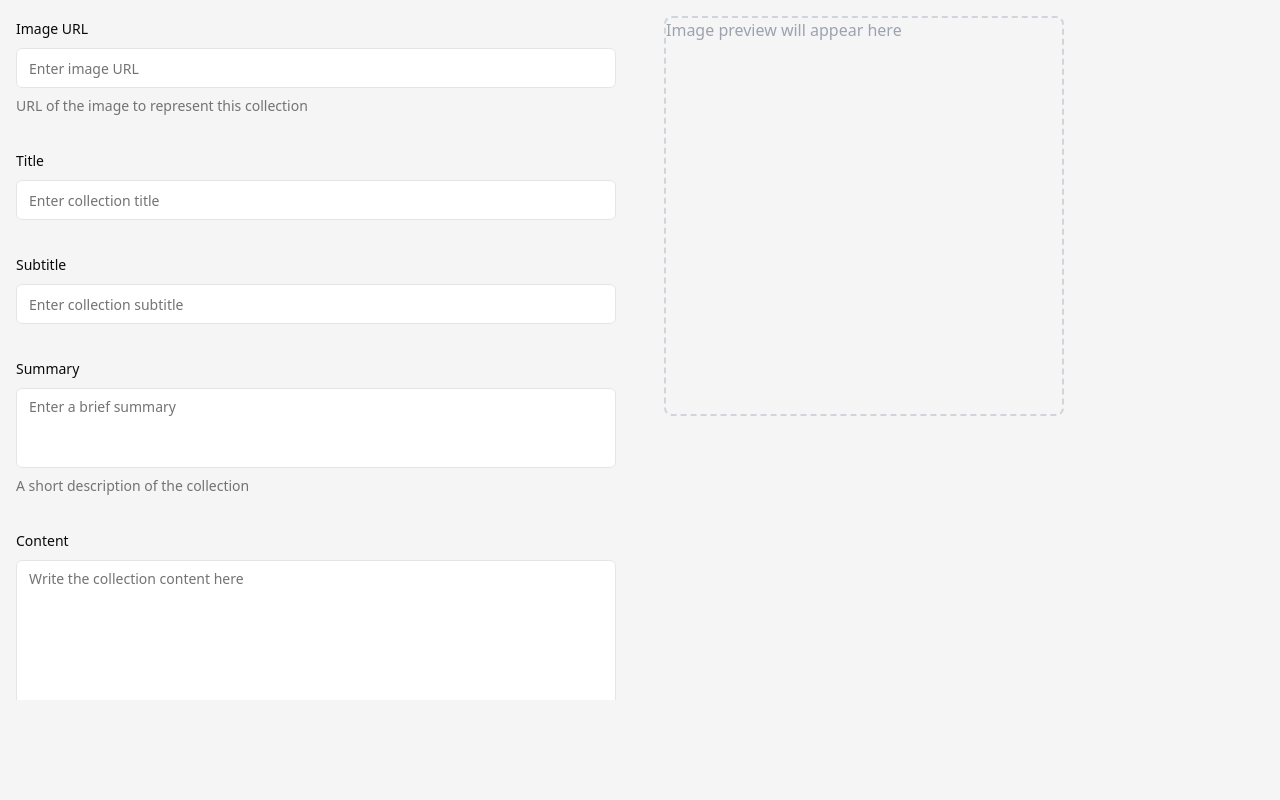
admin collection forms › shows pre-submit collection create feedback for unsupported image hosts without rendering a preview
The image size is (1280, 800).
In the field labelled "Image URL": x=316, y=68 16,48 -> 616,88, type "https://example.com/collection.jpg"
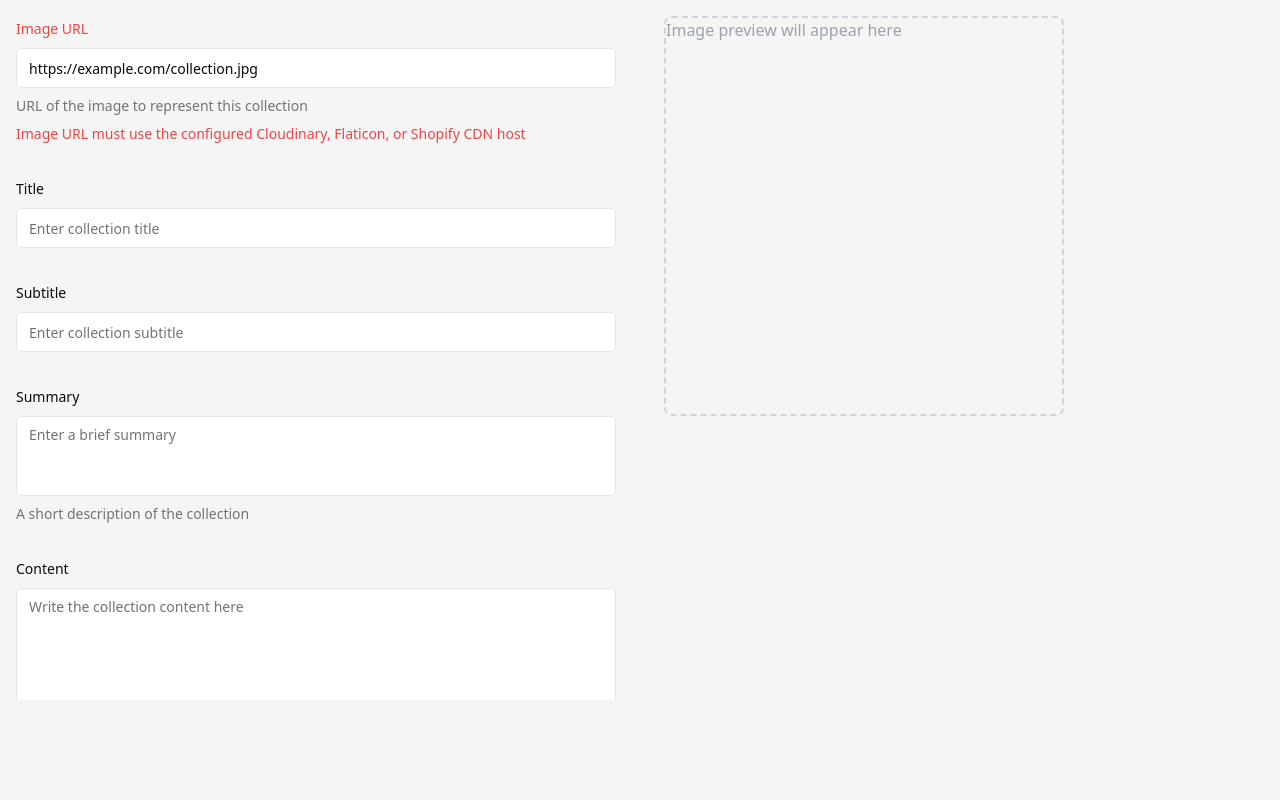
Result: the text "Image URL must use the configured Cloudinary, Flaticon, or Shopify CDN host" is shown at 16,124 -> 526,143
